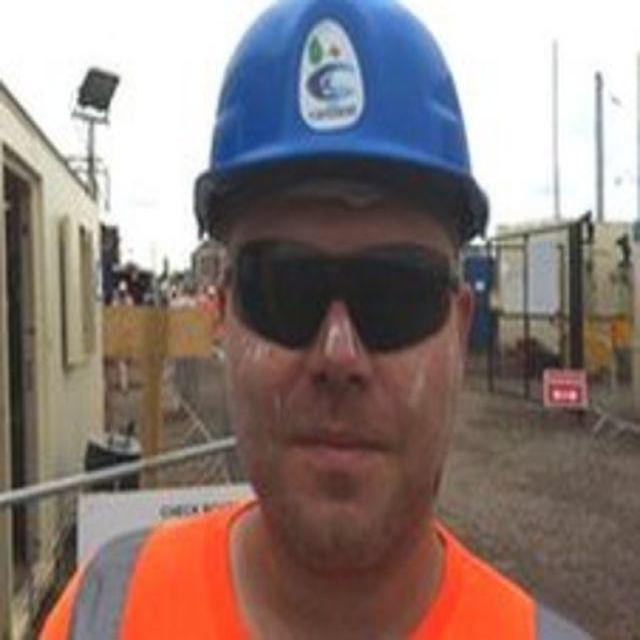hat: (192, 0, 491, 227)
